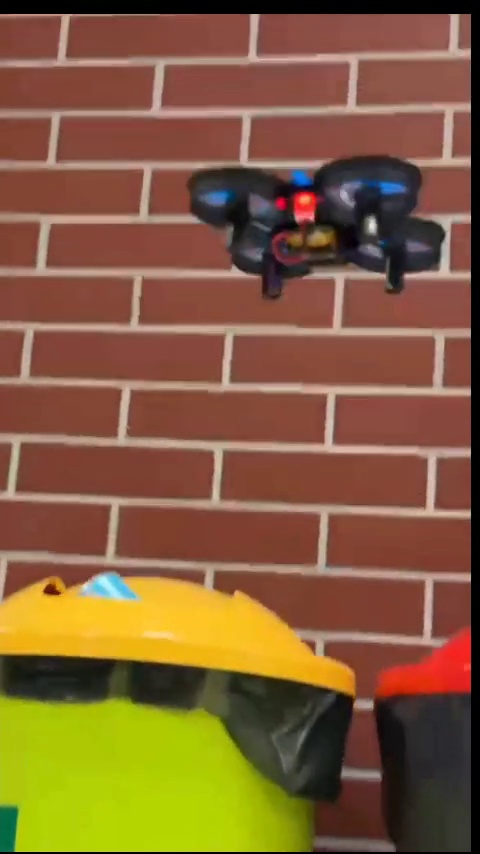drone: (180, 159, 443, 290)
